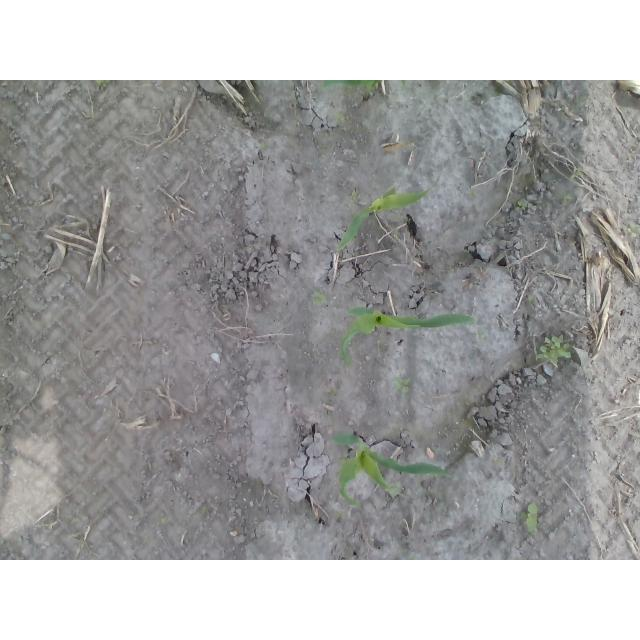Maize: (332, 433, 453, 507), (338, 307, 478, 366), (337, 177, 440, 250), (319, 80, 409, 101)
Weeds: (534, 334, 571, 365), (519, 503, 538, 534), (394, 375, 411, 393), (312, 292, 328, 305), (385, 482, 402, 494), (573, 97, 588, 109), (569, 168, 583, 180), (348, 191, 359, 206), (627, 224, 640, 236), (155, 513, 166, 527), (476, 326, 485, 342), (65, 515, 79, 525), (95, 80, 112, 88), (516, 201, 529, 211), (335, 111, 346, 122), (259, 141, 271, 151), (526, 294, 536, 306), (493, 458, 503, 467), (562, 194, 572, 202), (468, 188, 476, 197), (405, 216, 411, 224), (394, 228, 399, 236), (407, 557, 417, 560)
